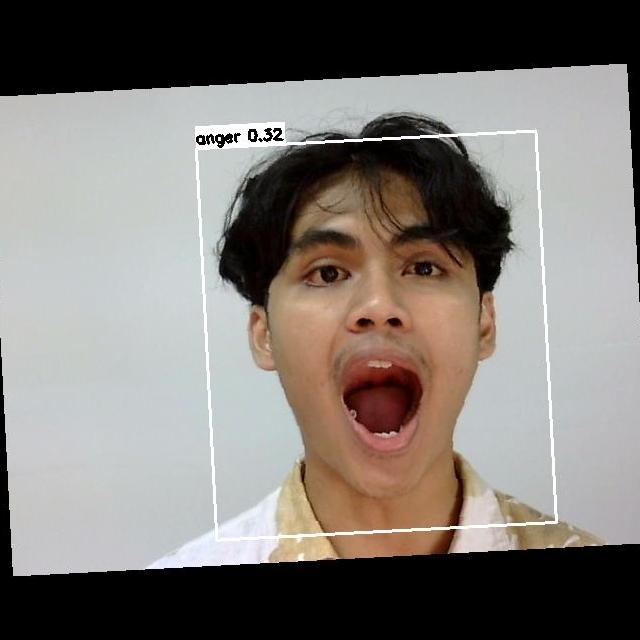Surprised: (289, 213, 482, 458)
